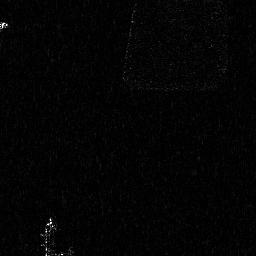ship: (42, 218, 57, 256)
